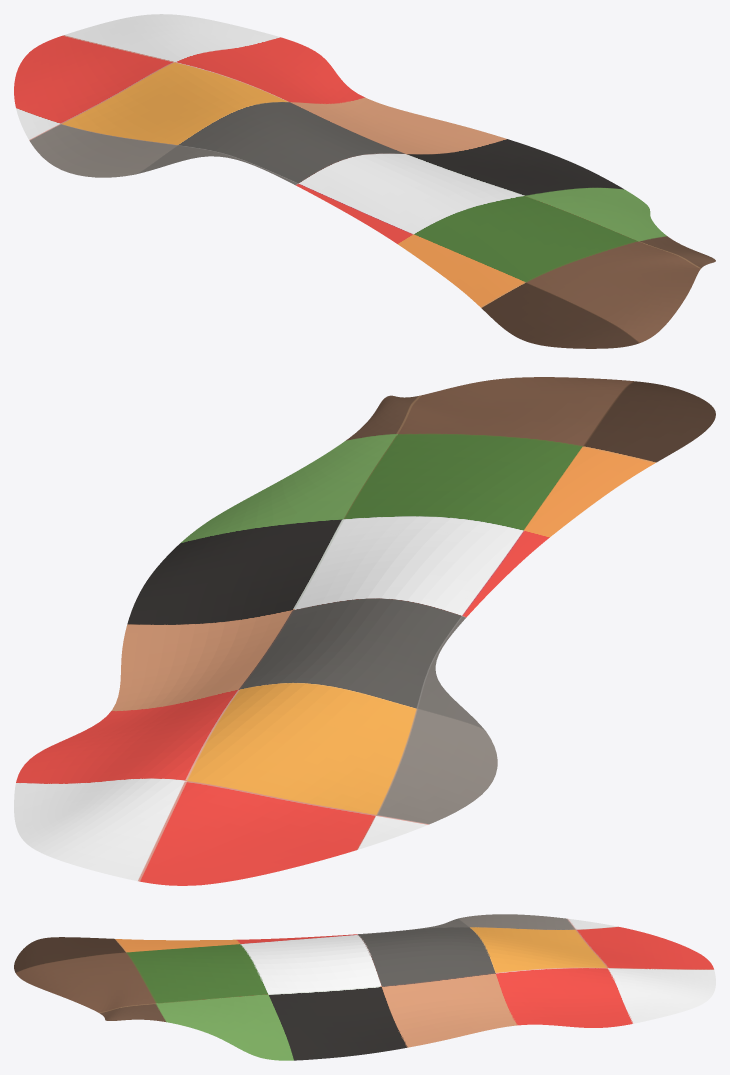
File: lvl2grassbeachupper.fbx
The picture shows the model from 3 angles, top to bottom: view 1: azimuth 30°, elevation 25°; view 2: azimuth 150°, elevation 25°; view 3: azimuth 270°, elevation 25°; orthographic projection. The views are drawn at different scales.
Visible parts, largest first — view 1: beachuppergrass; view 2: beachuppergrass; view 3: beachuppergrass.
Part boxes in pixels (x1=…): beachuppergrass: x1=14, y1=14, x2=715, y2=348; beachuppergrass: x1=14, y1=377, x2=715, y2=885; beachuppergrass: x1=14, y1=914, x2=715, y2=1060.
Size of the model in its own units: 19.51 by 2.2 by 40.88.
